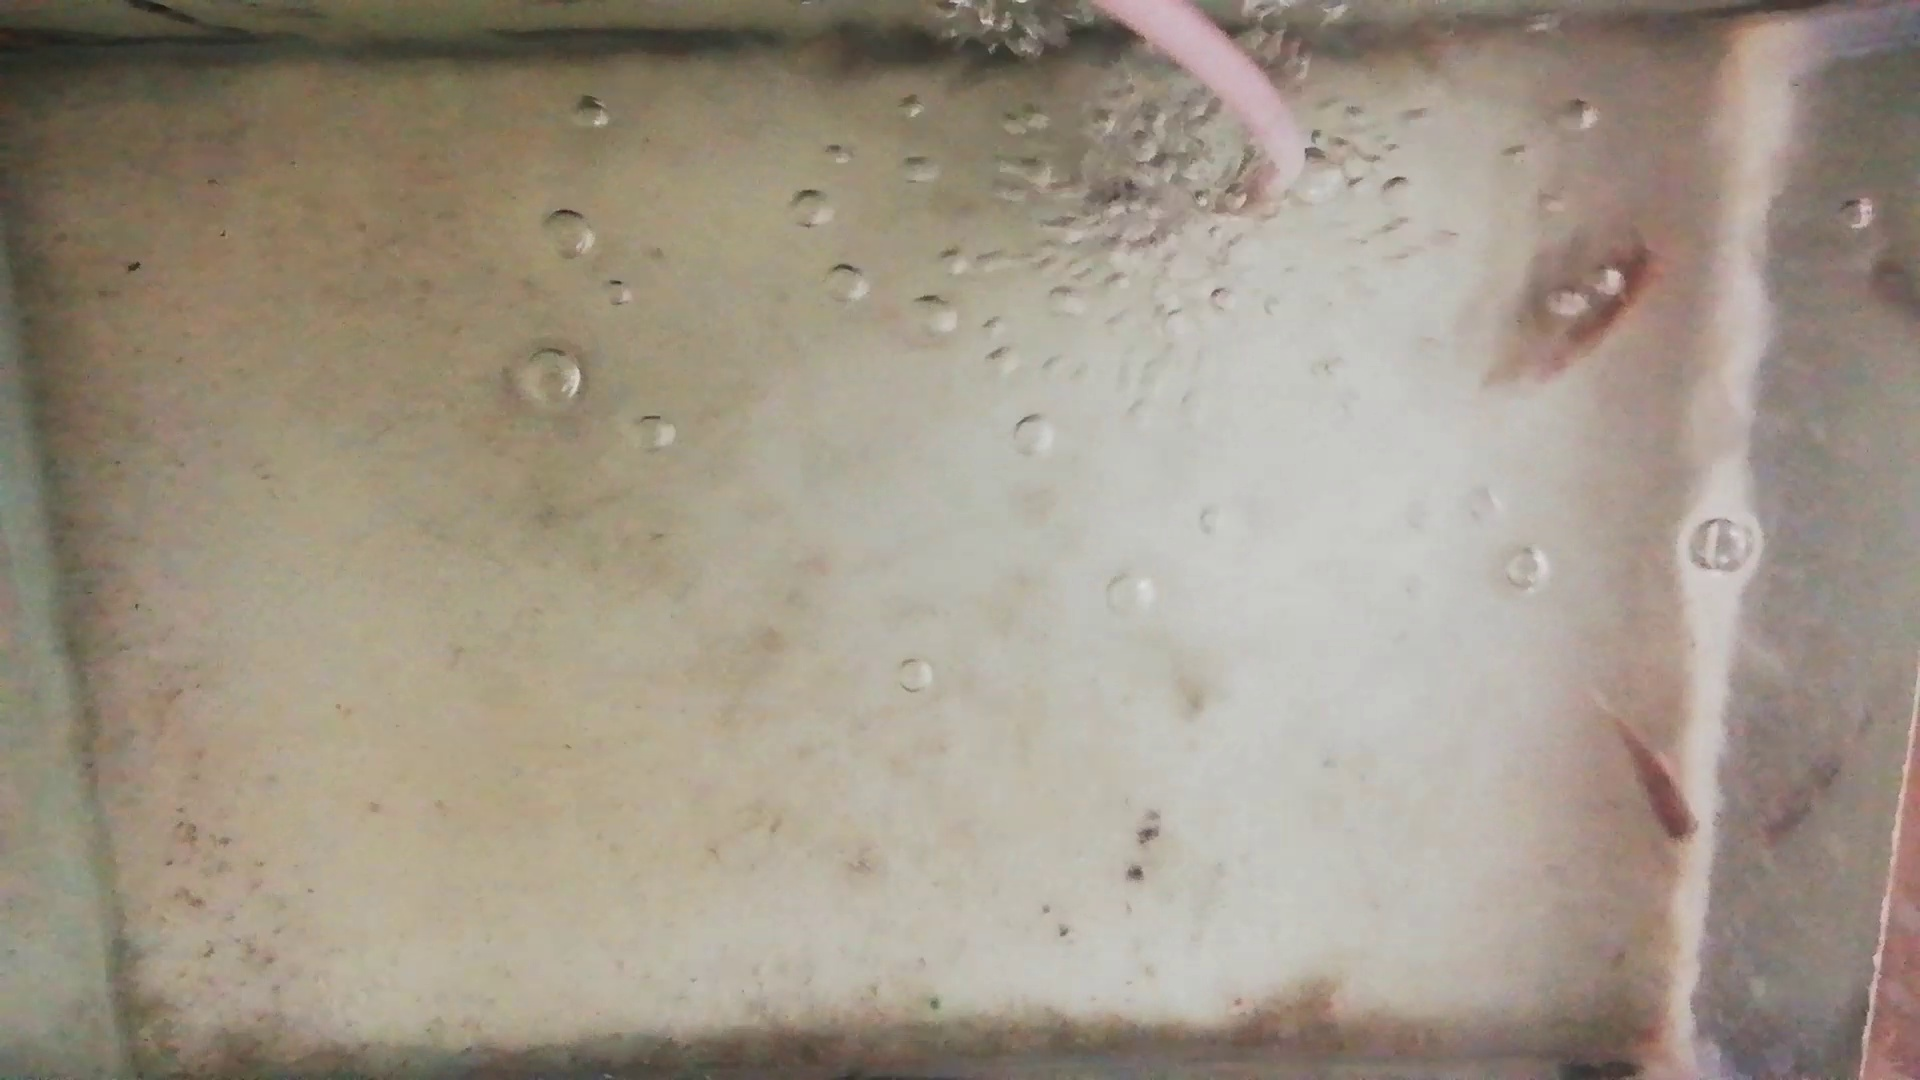fish: (1503, 236, 1654, 378), (1611, 715, 1697, 845)
